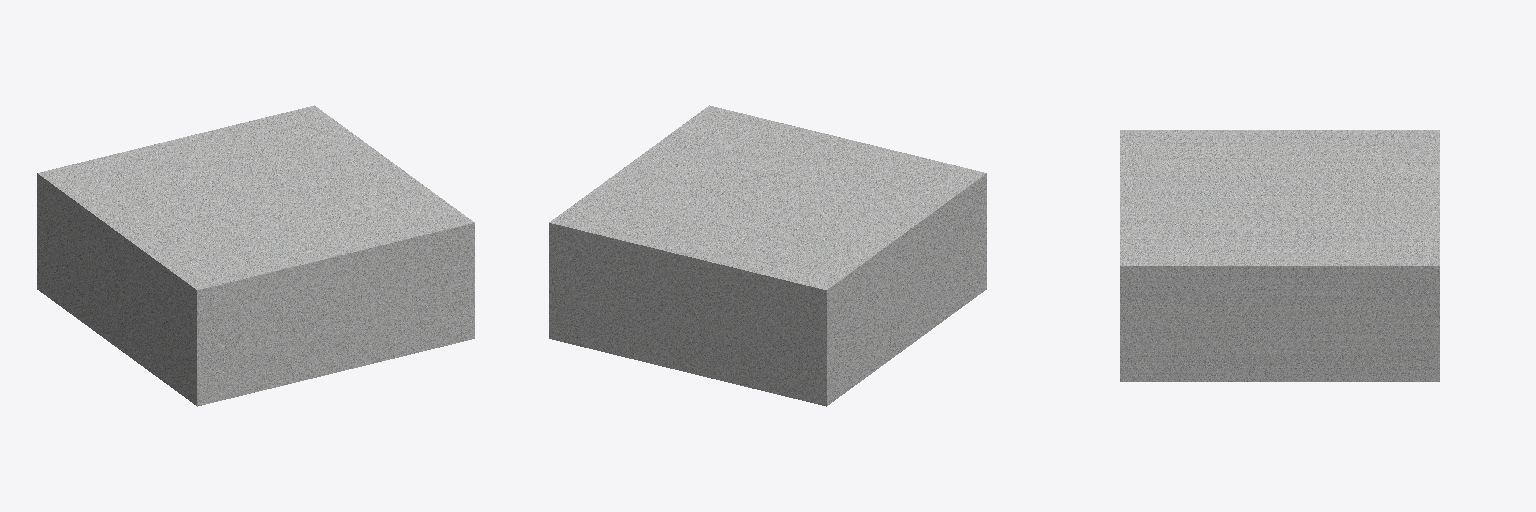
3 views of the same model, side by side, from view 1: azimuth 30°, elevation 25°; view 2: azimuth 150°, elevation 25°; view 3: azimuth 270°, elevation 25° (orthographic).
Visible parts, largest first — view 1: Cube; view 2: Cube; view 3: Cube.
Part boxes in pixels (x1,y1,x2,y2): Cube: (37, 105, 474, 406); Cube: (549, 105, 986, 406); Cube: (1120, 130, 1439, 381).
Bounding box in the file's own units: 10 × 4 × 10.
Materials: 2 (2 with a texture image).